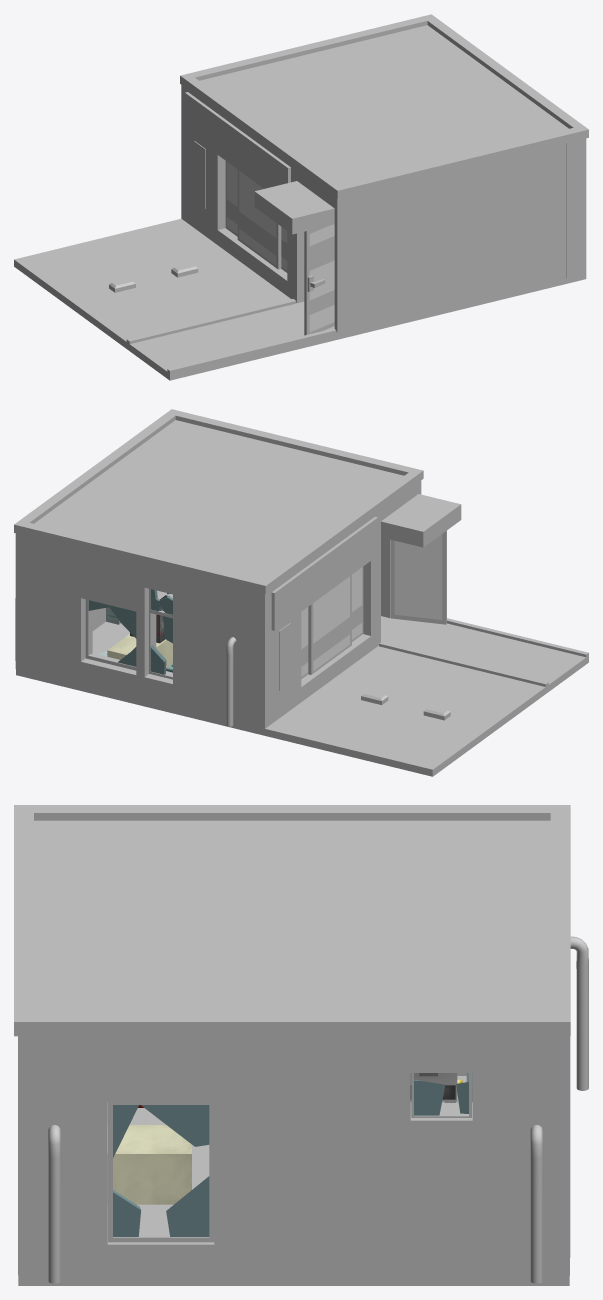
Rendered from Pharmacy1.fbx.
The picture shows the model from 3 angles, top to bottom: view 1: azimuth 30°, elevation 25°; view 2: azimuth 150°, elevation 25°; view 3: azimuth 270°, elevation 25°; orthographic projection. The views are drawn at different scales.
Visible parts, largest first — view 1: Ceiling, Ground, Wall_Side, Wall_Front, SignBig, Door, Wall_Back, Cube.001, Cube.007, Sign; view 2: Ceiling, Ground, Wall_Side.001, Wall_Front, Door, SignBig, Cube.001, Wall_Back, Cube.008, Wall_Side, Cube.016, Sign (+3 smaller); view 3: Ceiling, Wall_Back, Ground, Cube.017, Cube.003, Vert.002, Vert.001, Vert.003, Cube.011_cell.002, Cube.011_cell.001, Cube.011_cell.005, Cube.010_cell.006 (+2 smaller).
Part boxes in pixels (x1,y1,x2,y2): Ceiling: (180,14,588,198); Ground: (14,218,586,380); Wall_Side: (357,143,565,328); Wall_Front: (181,85,357,333); SignBig: (185,92,290,188); Door: (304,224,334,335); Wall_Back: (566,138,586,277); Cube.001: (237,170,281,269); Cube.007: (225,161,237,236); Sign: (194,141,205,208); Ceiling: (14,409,423,594); Ground: (16,590,588,776); Wall_Side.001: (36,538,245,724); Wall_Front: (245,481,461,729); Door: (390,530,446,624); SignBig: (271,517,377,630); Cube.001: (308,575,351,674); Wall_Back: (15,533,105,673); Cube.008: (352,567,363,641); Wall_Side: (381,537,390,617); Cube.016: (107,634,172,667); Sign: (279,623,290,690); Ceiling: (14,805,570,1036); Wall_Back: (18,1036,569,1275); Ground: (18,1076,569,1285); Cube.017: (107,1125,191,1204); Cube.003: (108,1102,214,1242); Vert.002: (48,1125,60,1283); Vert.001: (530,1125,542,1283); Vert.003: (570,936,588,1090); Cube.011_cell.002: (166,1176,209,1236); Cube.011_cell.001: (141,1105,209,1146); Cube.011_cell.005: (113,1190,141,1236); Cube.010_cell.006: (414,1080,445,1115).
Bounding box in the file's own units: 1261 × 425 × 835.
